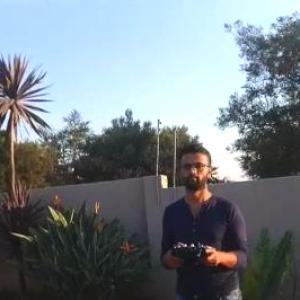follow: (156, 137, 256, 299)
